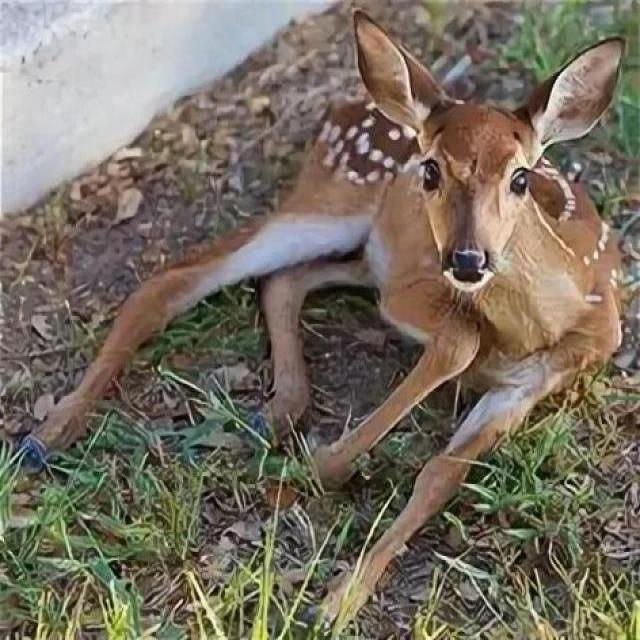deer: (0, 5, 616, 640)
